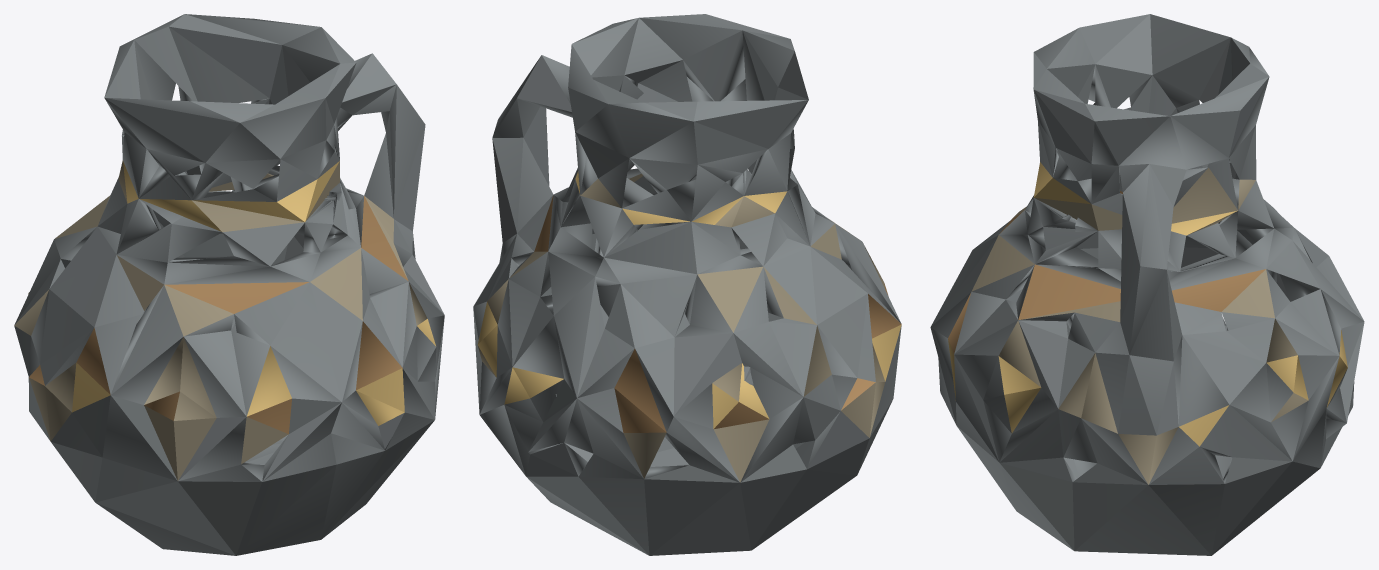
File: clay_pot_black.glb
The picture shows the model from 3 angles, left to right: view 1: azimuth 30°, elevation 25°; view 2: azimuth 150°, elevation 25°; view 3: azimuth 270°, elevation 25°; orthographic projection.
Parts seen in each view (by area): view 1: Mesh_0; view 2: Mesh_0; view 3: Mesh_0.
Boxes of the visible parts, <box> form: Mesh_0: <box>14,14,444,555</box>; Mesh_0: <box>473,14,901,555</box>; Mesh_0: <box>930,14,1364,555</box>.
Bounding box in the file's own units: 0.4 × 0.45 × 0.4.
